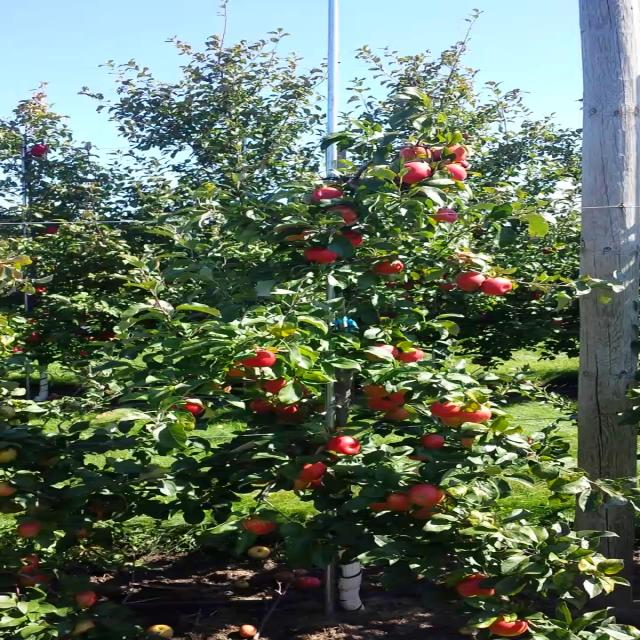apple: (487, 613, 528, 637), (459, 573, 496, 597), (368, 390, 408, 412), (369, 492, 414, 511), (410, 484, 447, 506), (325, 204, 359, 227), (236, 350, 276, 368), (325, 436, 361, 456), (430, 144, 468, 162), (303, 246, 341, 264), (401, 162, 432, 184), (454, 271, 488, 291), (478, 277, 514, 295), (238, 517, 274, 535), (462, 404, 494, 424), (311, 186, 345, 204), (273, 224, 310, 240), (298, 461, 330, 479), (371, 259, 406, 275), (428, 208, 460, 225), (365, 344, 399, 360), (432, 399, 460, 417), (248, 398, 279, 414), (338, 228, 362, 248), (442, 164, 468, 182), (395, 346, 424, 362), (15, 521, 40, 539), (73, 590, 98, 608), (276, 404, 308, 418), (170, 403, 206, 415), (18, 555, 42, 573), (403, 146, 433, 160), (20, 572, 50, 586), (263, 377, 286, 395), (412, 505, 441, 519), (71, 621, 97, 636), (361, 384, 388, 398), (421, 434, 447, 448), (226, 362, 250, 376), (383, 408, 411, 420), (441, 416, 467, 428), (87, 504, 109, 518), (0, 447, 19, 463), (0, 481, 19, 497), (209, 382, 235, 392), (307, 476, 327, 488), (294, 476, 310, 490), (404, 453, 426, 460), (456, 158, 470, 168), (299, 383, 309, 397), (463, 438, 477, 448), (76, 528, 87, 538), (316, 404, 326, 414)
